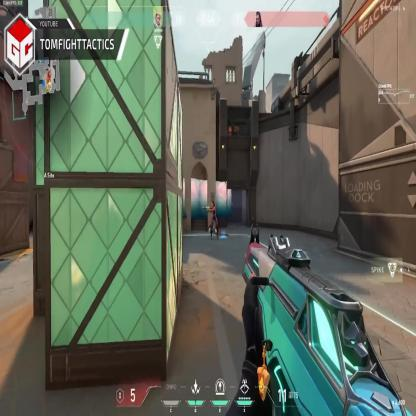enemy: (208, 201, 219, 239)
enemy_head: (211, 202, 214, 209)
